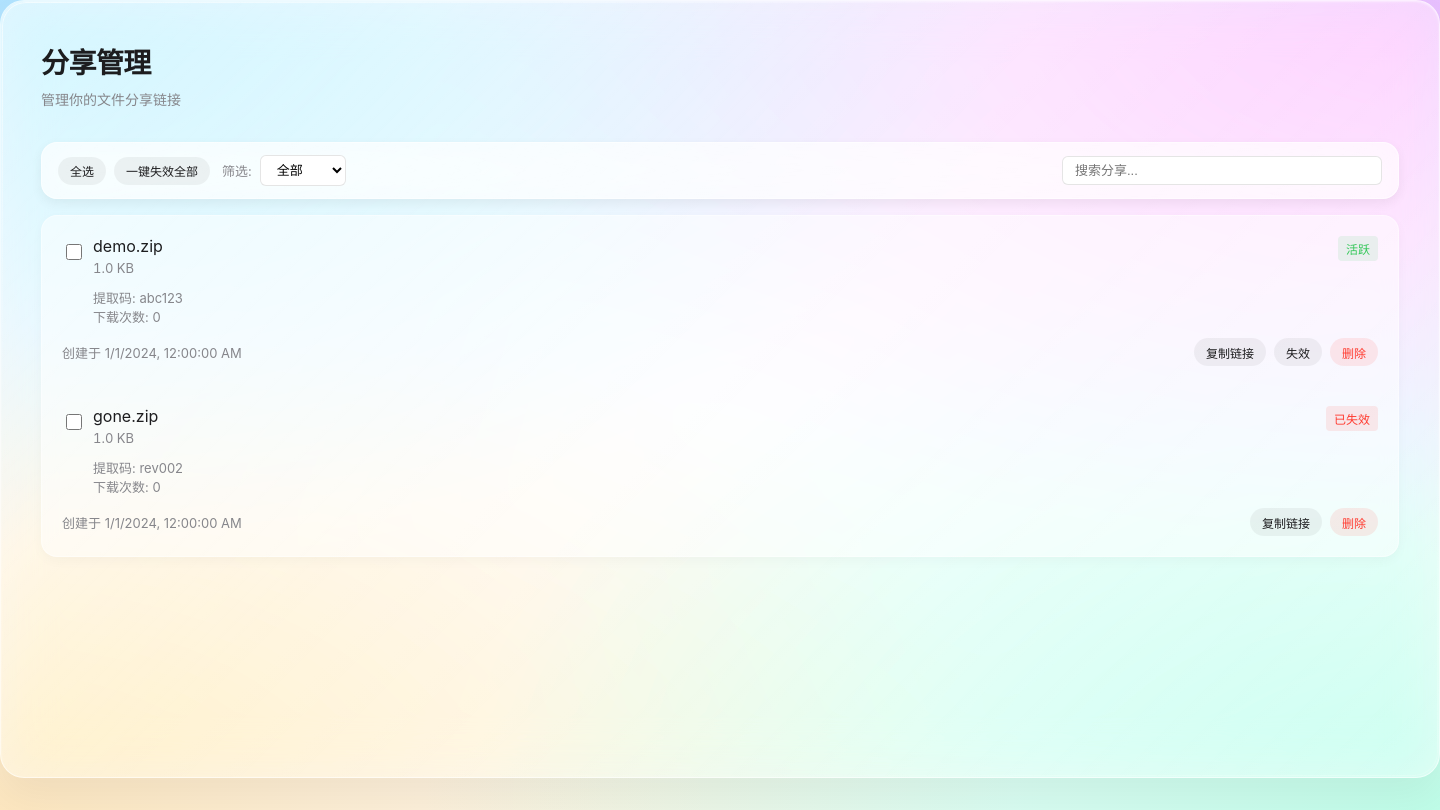
SharesPage › filter status active via the select filters records
The width and height of the screenshot is (1440, 810).
Expected: the text "demo.zip" is shown, [93, 236, 163, 256]
Step 1. Select "活跃" in the dropdown named "分享状态筛选" → (303, 170), box [260, 155, 346, 186]
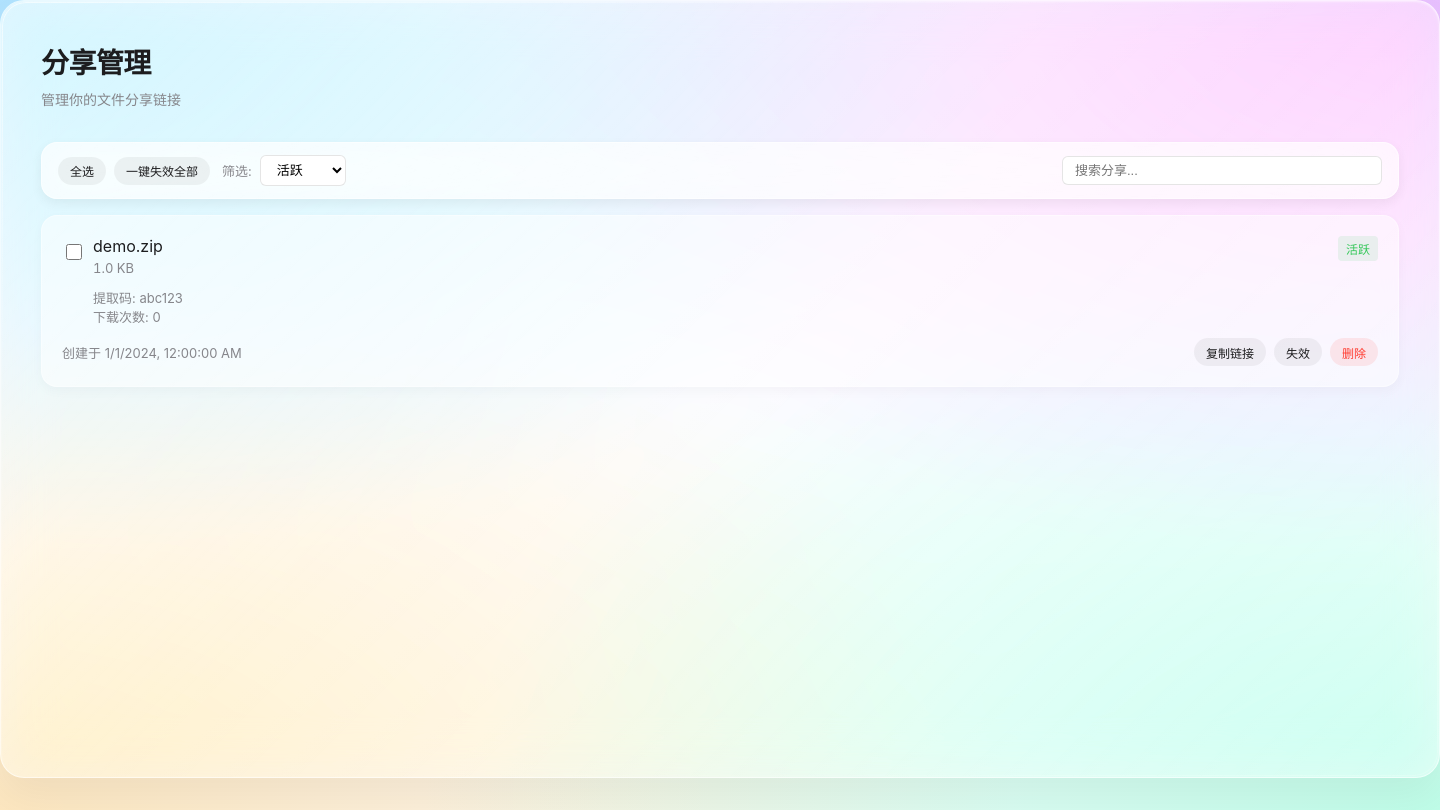
Expected: the text "demo.zip" is shown, [93, 236, 163, 256]
Expected: the button "gone.zip" is gone
